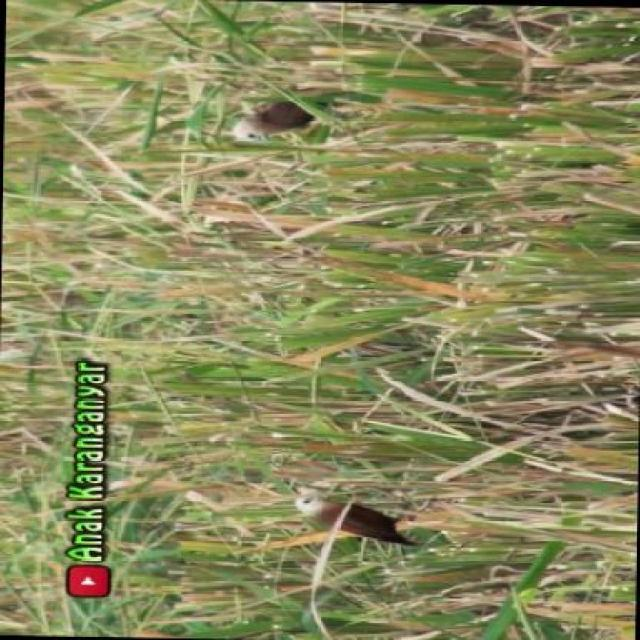Bird: (282, 472, 420, 568), (236, 89, 352, 156)
